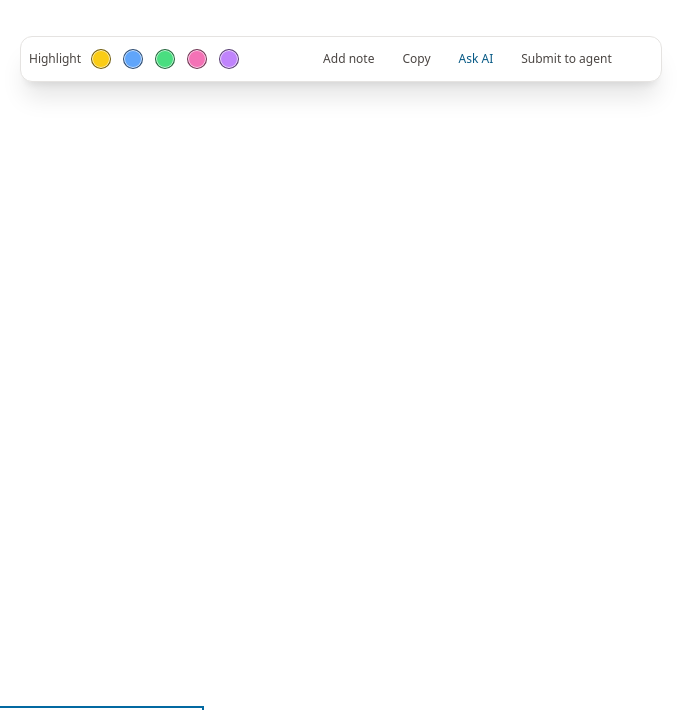
annotation renderer UX › displays Copy failed when clipboard writeText rejects or fails
Step 1. Click the button "Copy" → (416, 59), box [390, 45, 442, 73]
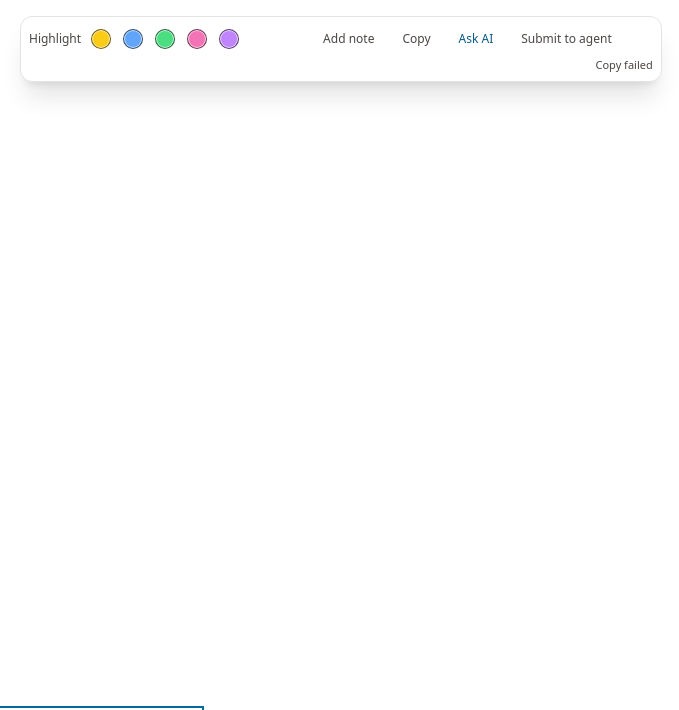
expect the text "Copy failed" is shown: met, box [596, 57, 653, 72]
